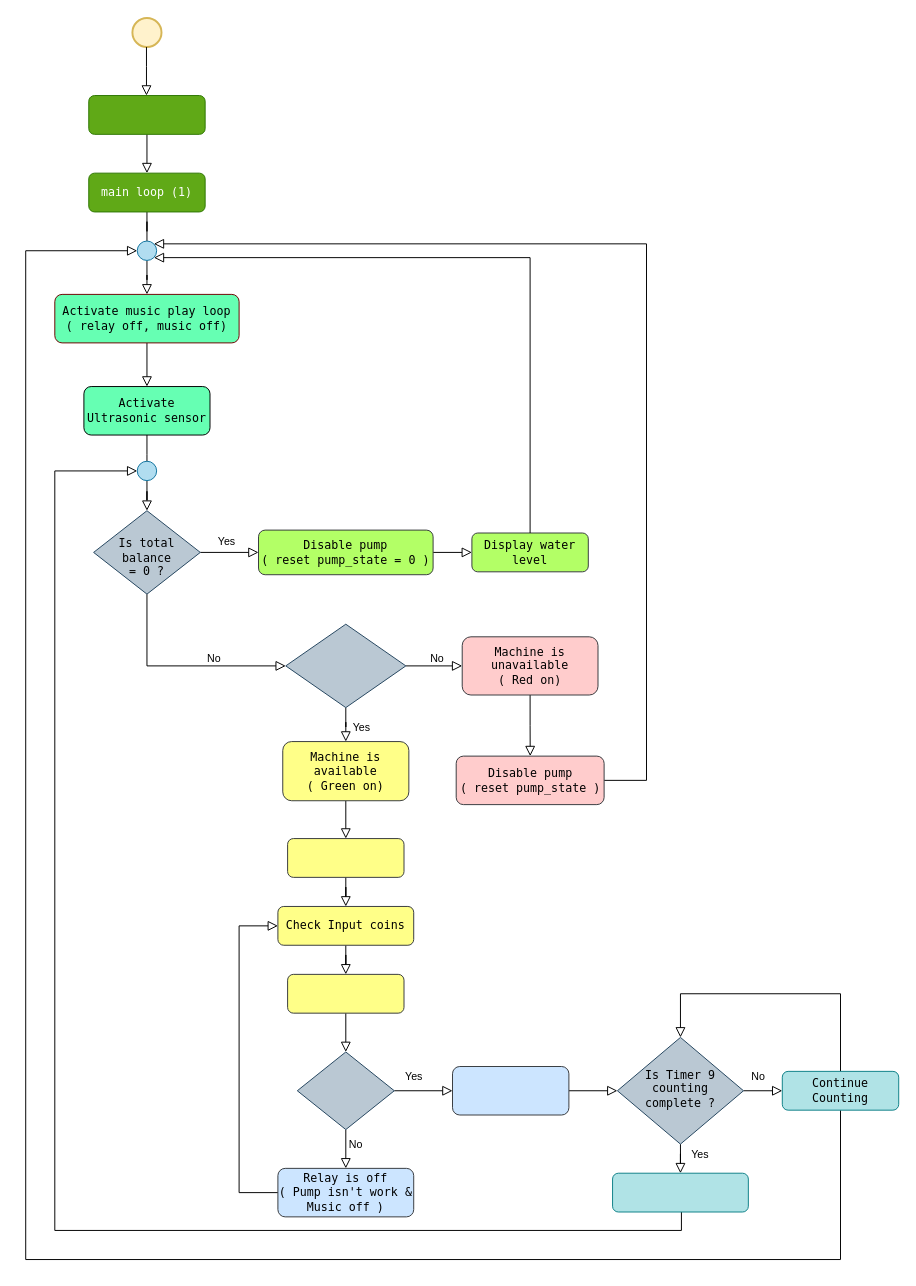
Image size: 916x1286. Some labels were removed from this diagram. Each missing label, with the centre of its shape:
"Decrease coin by 1" goes at pixel 680 1192.
"Display amount of coins" goes at pixel 345 993.
"Enable pump" goes at pixel 345 857.
"Initialization" goes at pixel 146 114.
"Is water level >= 30 ?" goes at pixel 345 665.
"pump_state = 1 ?" goes at pixel 345 1090.
"Relay is on ( Pump works & Music on )" goes at pixel 510 1090.
